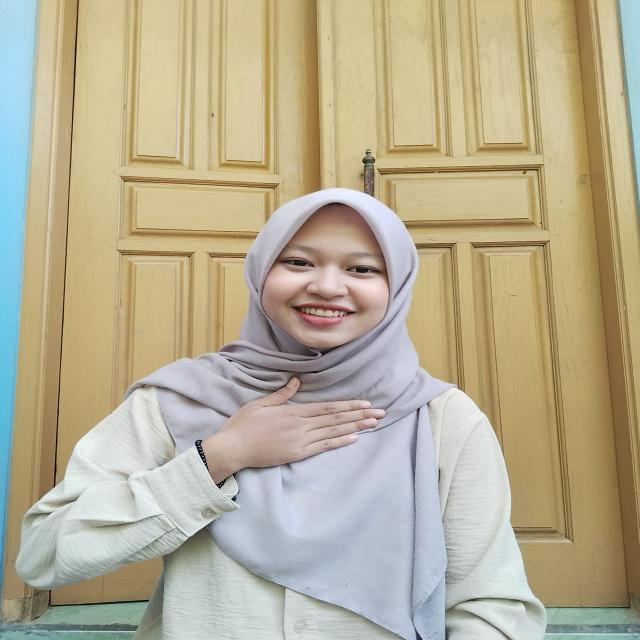tolong: (153, 368, 382, 508)
